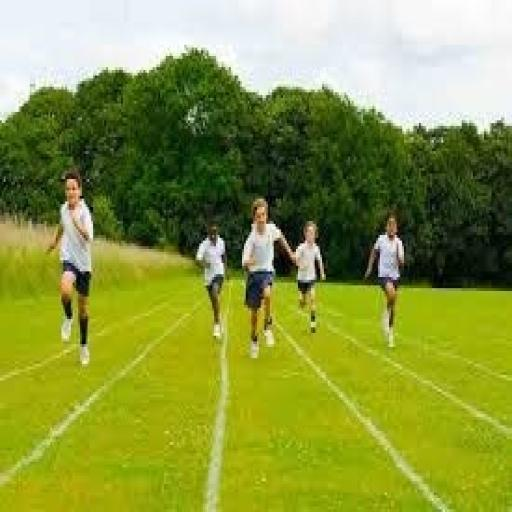running: (42, 165, 98, 369), (238, 193, 300, 361), (361, 210, 410, 352), (192, 216, 231, 344), (290, 216, 330, 338)
